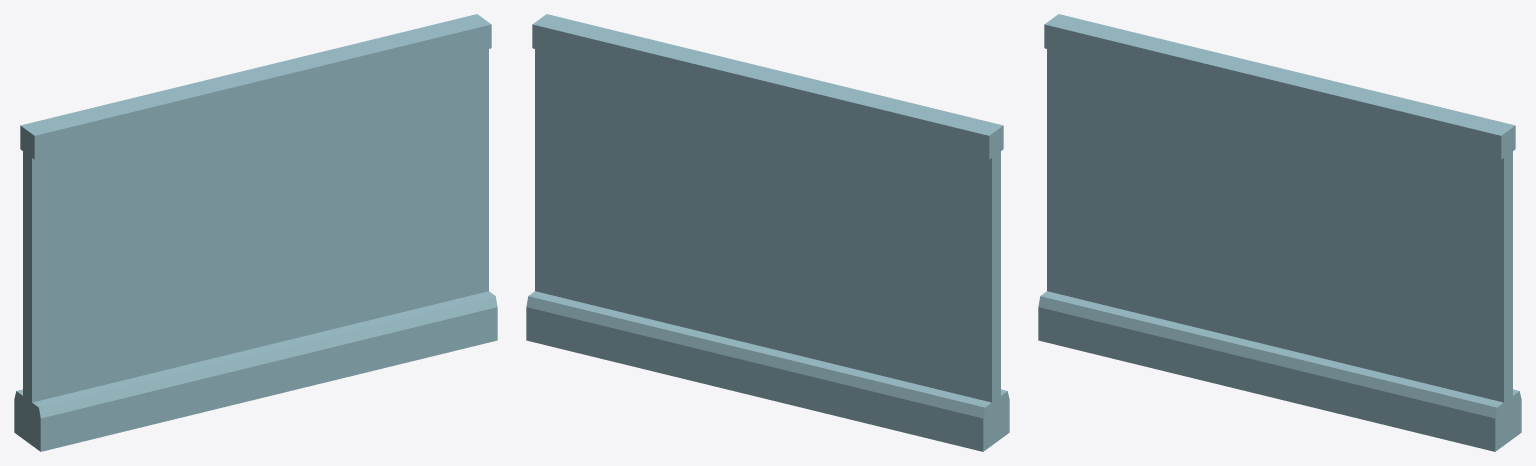
Rendered from stoneWall.dae.
3 views of the same model, side by side, from view 1: azimuth 30°, elevation 25°; view 2: azimuth 150°, elevation 25°; view 3: azimuth 330°, elevation 25° (orthographic).
Visible parts, largest first — view 1: stoneWall; view 2: stoneWall; view 3: stoneWall.
Part boxes in pixels (bbox=[...]): stoneWall: bbox=[14, 14, 497, 451]; stoneWall: bbox=[526, 14, 1009, 451]; stoneWall: bbox=[1038, 14, 1521, 451].
Bounding box in the file's own units: 1 × 0.6519 × 0.1.
